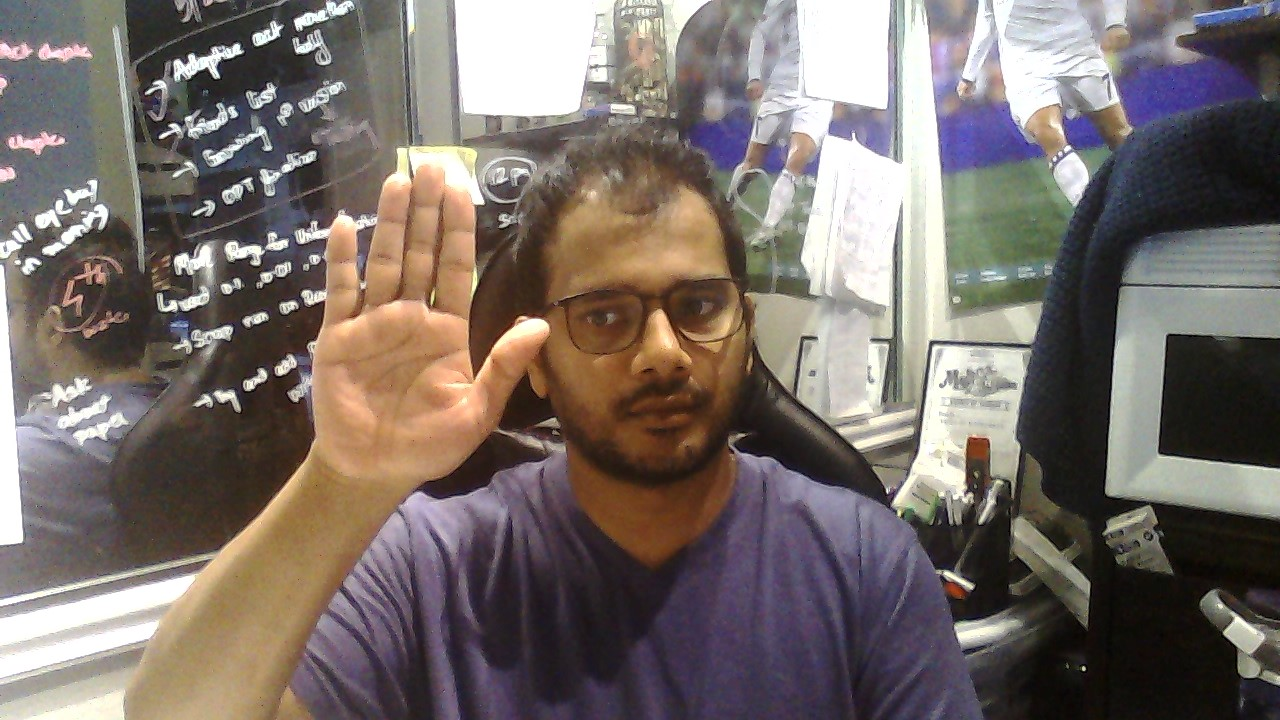Hello: (311, 163, 551, 479)
